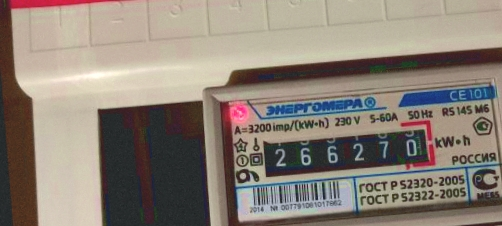0: (404, 136, 417, 157)
2: (272, 145, 288, 167), (351, 140, 364, 162)
6: (298, 145, 313, 166), (324, 143, 338, 163)
7: (376, 138, 390, 160)
screen: (252, 115, 443, 187)
